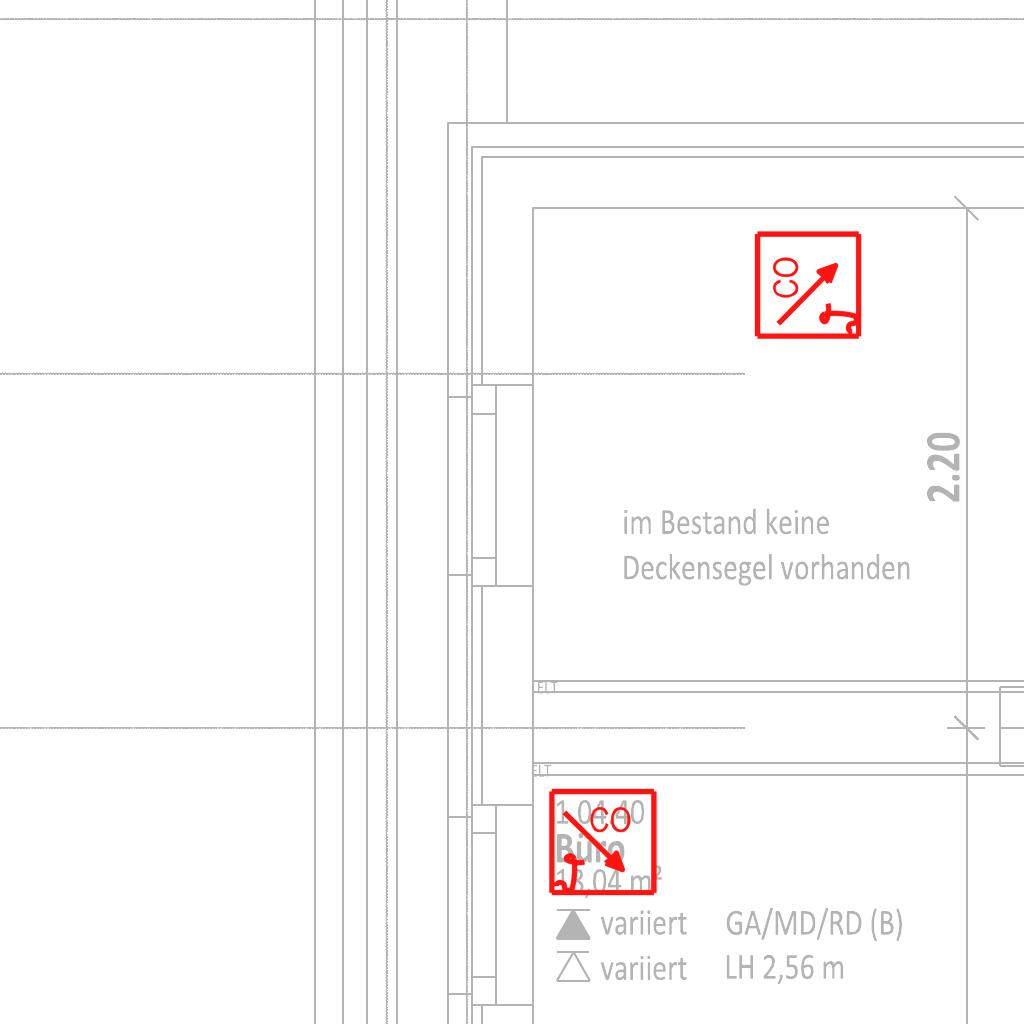ROA_Rauchmelder_optisch_mit_Signalgeber_(Sockelsirene): (753, 228, 866, 341), (547, 787, 660, 900)
